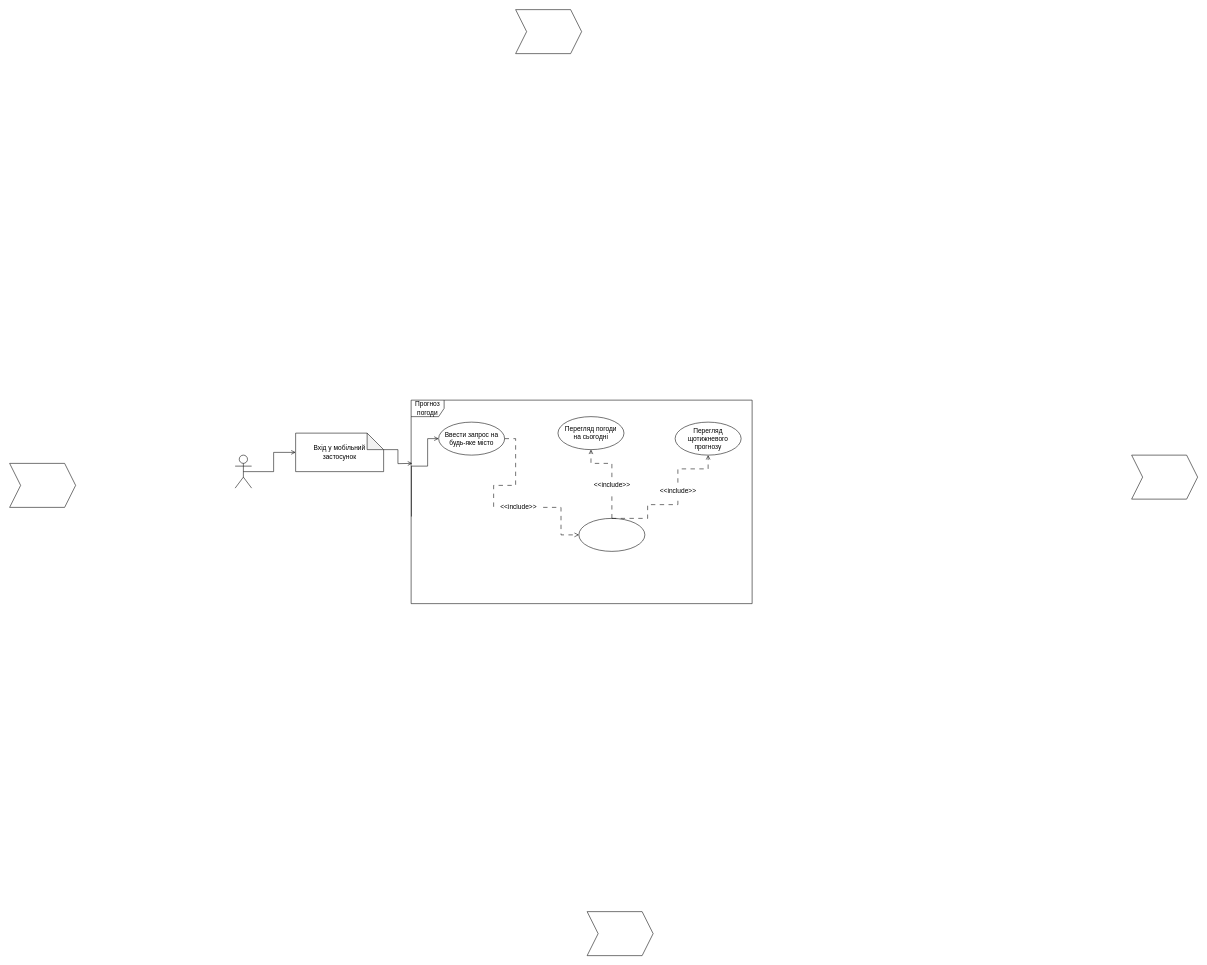
Image size: 1207x965. Some labels were removed from this diagram. The centre of each missing label's shape, as x and y in pixels:
"User" belongs at [243,471].
"Перегляд погодних умов" belongs at [611,534].
